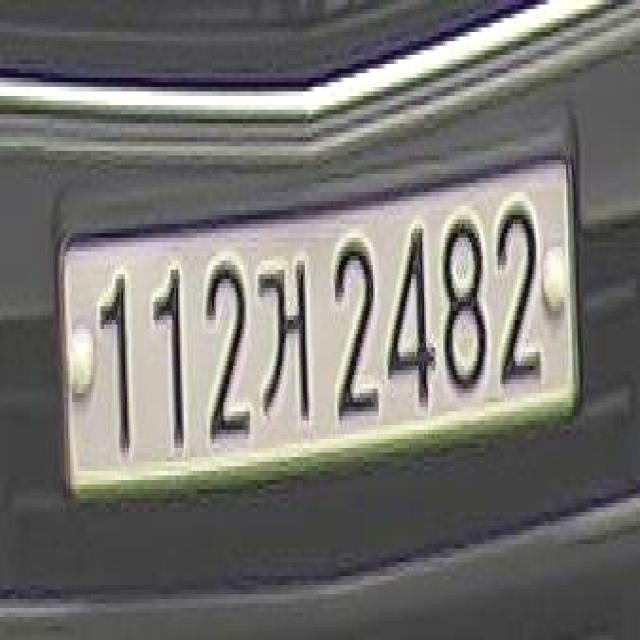illegal_plate: (56, 164, 581, 508)
